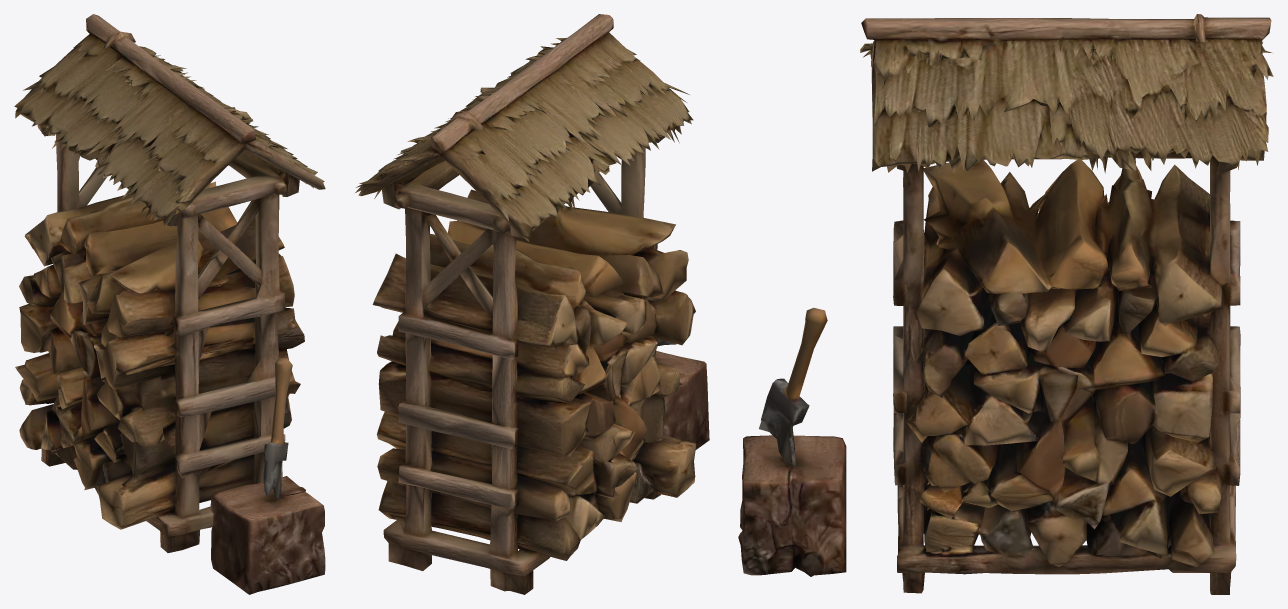
File: v-wood.glb
3 renders of one model, left to right at view 1: azimuth 30°, elevation 25°; view 2: azimuth 150°, elevation 25°; view 3: azimuth 270°, elevation 25°, orthographic. The views are drawn at different scales.
Visible parts, largest first — view 1: tripo_node_763b132c-38e3-4658-abd0-700a2f0a691f; view 2: tripo_node_763b132c-38e3-4658-abd0-700a2f0a691f; view 3: tripo_node_763b132c-38e3-4658-abd0-700a2f0a691f.
Part boxes in pixels (x1,y1,x2,y2): tripo_node_763b132c-38e3-4658-abd0-700a2f0a691f: (14, 14, 325, 594); tripo_node_763b132c-38e3-4658-abd0-700a2f0a691f: (355, 14, 709, 594); tripo_node_763b132c-38e3-4658-abd0-700a2f0a691f: (738, 14, 1273, 594).
Bounding box in the file's own units: 0.4848 × 1 × 0.8903.
Materials: 1 (1 with a texture image).
